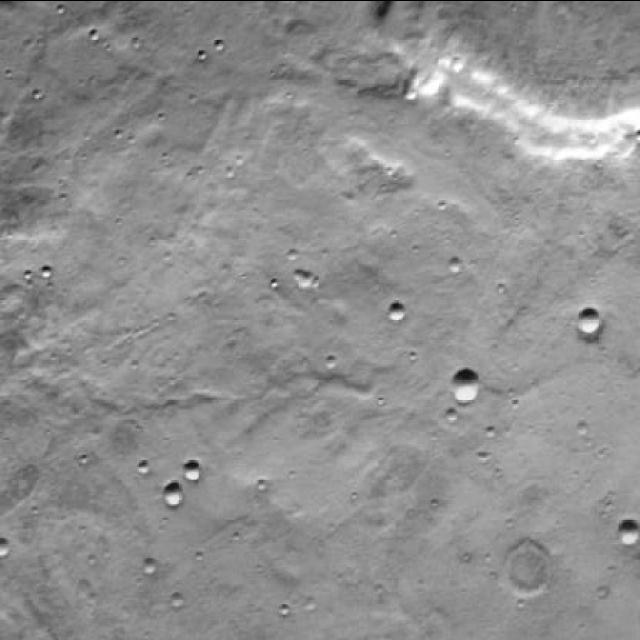crater: (504, 540, 553, 594), (454, 367, 482, 399), (580, 307, 602, 331), (622, 523, 640, 544), (167, 482, 185, 502), (185, 459, 202, 479), (388, 304, 406, 322), (0, 538, 13, 558)
